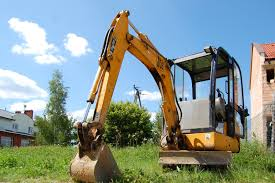excavator: (68, 12, 244, 178)
